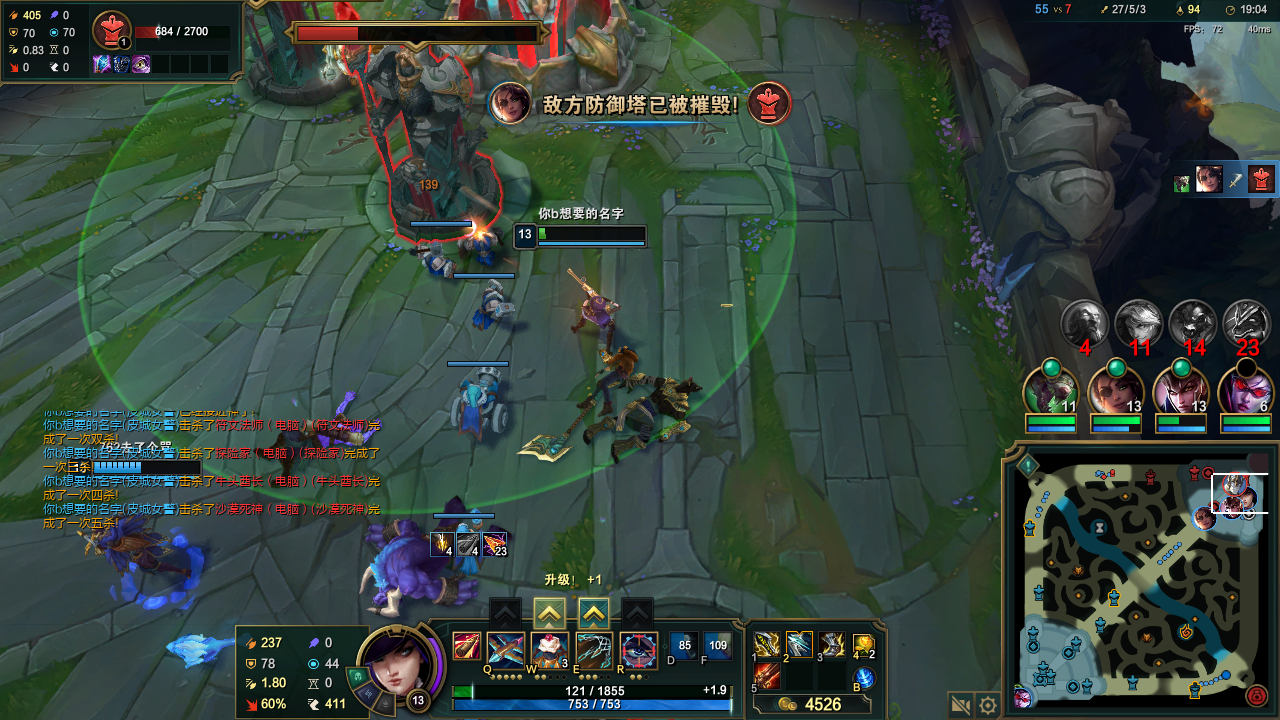DFFYT: (292, 27, 521, 231)
KF: (789, 634, 813, 646)
Shenji: (579, 602, 608, 630)
Tuijianshengji: (536, 602, 560, 622)
WFXB: (460, 281, 518, 336), (456, 370, 506, 430), (424, 248, 454, 284)
